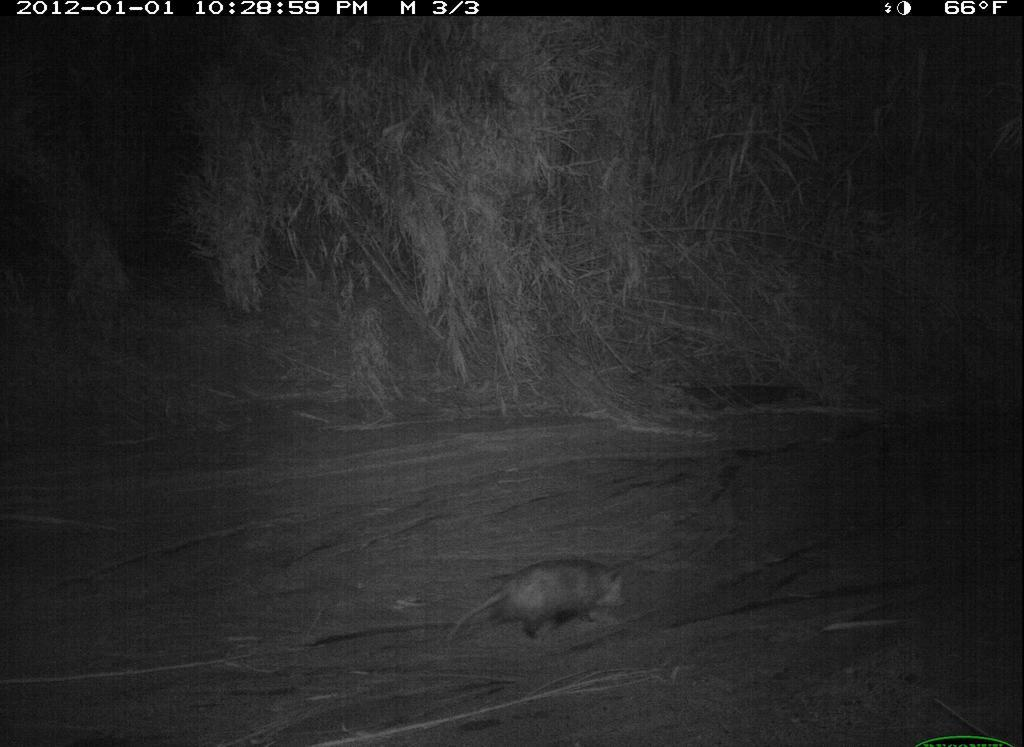opossum: (443, 552, 642, 662)
